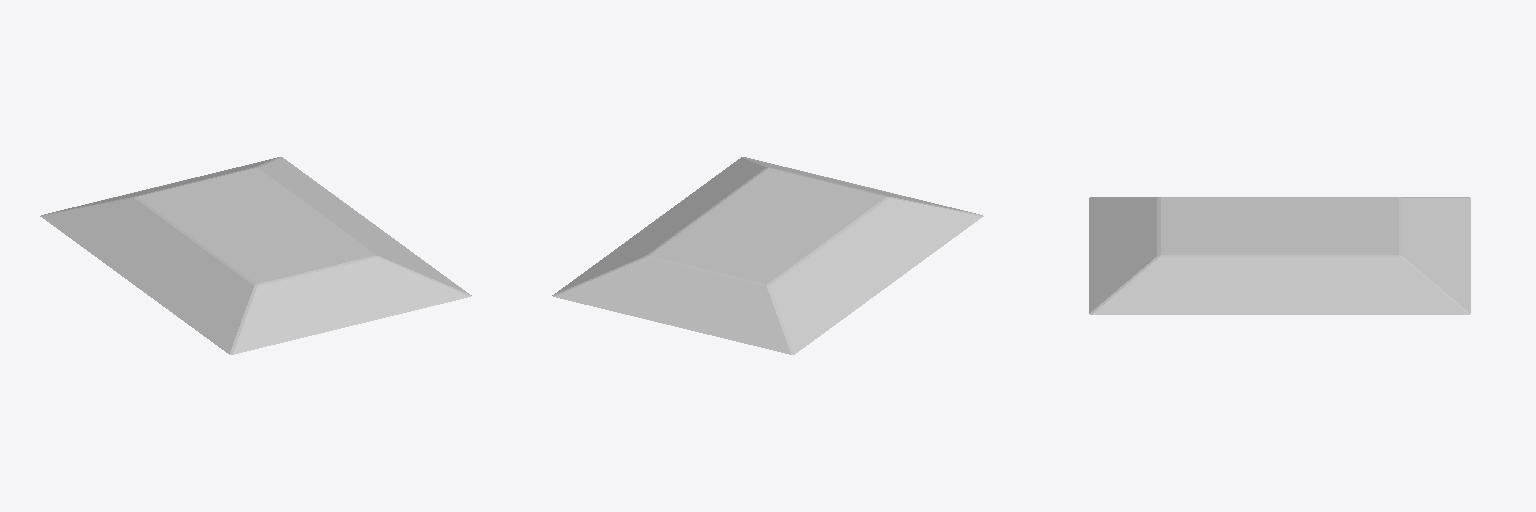
Rendered from gem-4-long.obj.
3 renders of one model, left to right at view 1: azimuth 30°, elevation 25°; view 2: azimuth 150°, elevation 25°; view 3: azimuth 270°, elevation 25°, orthographic.
Visible parts, largest first — view 1: gem_Cube; view 2: gem_Cube; view 3: gem_Cube.
Part boxes in pixels (x1,y1,x2,y2): gem_Cube: (40, 157, 471, 354); gem_Cube: (552, 157, 983, 354); gem_Cube: (1089, 197, 1470, 314).
Size of the model in its own units: 16.38 by 3.85 by 22.38.